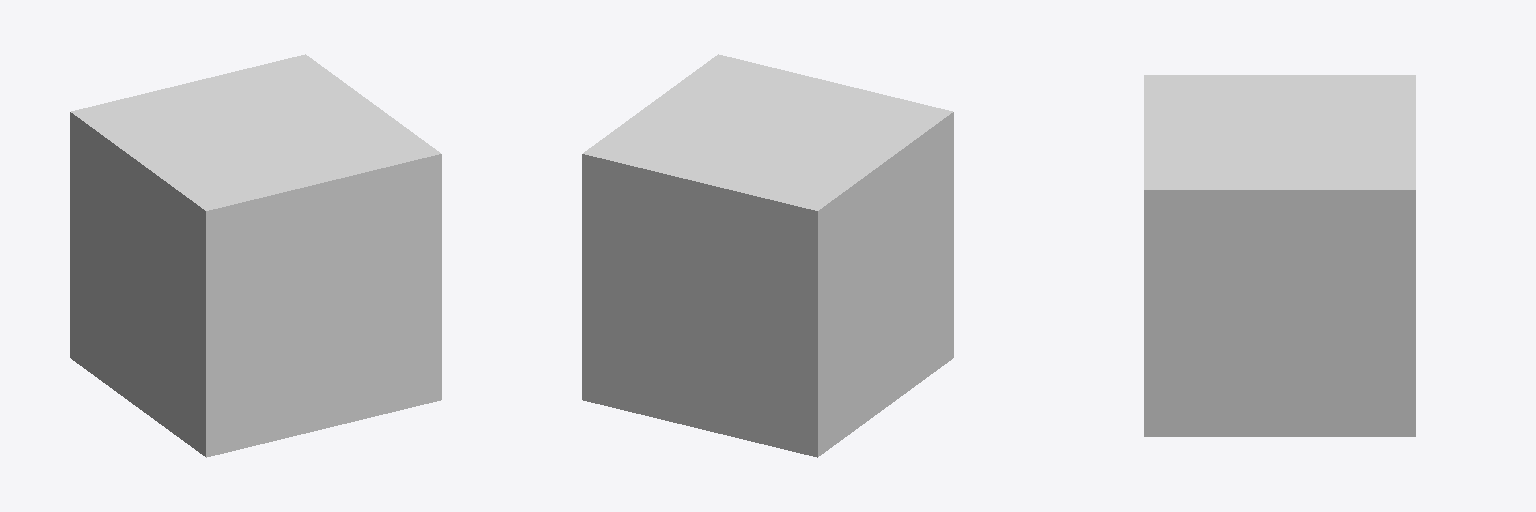
The picture shows the model from 3 angles: view 1: azimuth 30°, elevation 25°; view 2: azimuth 150°, elevation 25°; view 3: azimuth 270°, elevation 25°; orthographic projection.
Parts seen in each view (by area): view 1: Cube; view 2: Cube; view 3: Cube.
Boxes of the visible parts, box(x1,y1,x2,y2) form: Cube: box(70, 54, 441, 457); Cube: box(582, 54, 953, 457); Cube: box(1144, 75, 1415, 436).
Bounding box in the file's own units: 2 × 2 × 2.
1 materials, 1 textured.